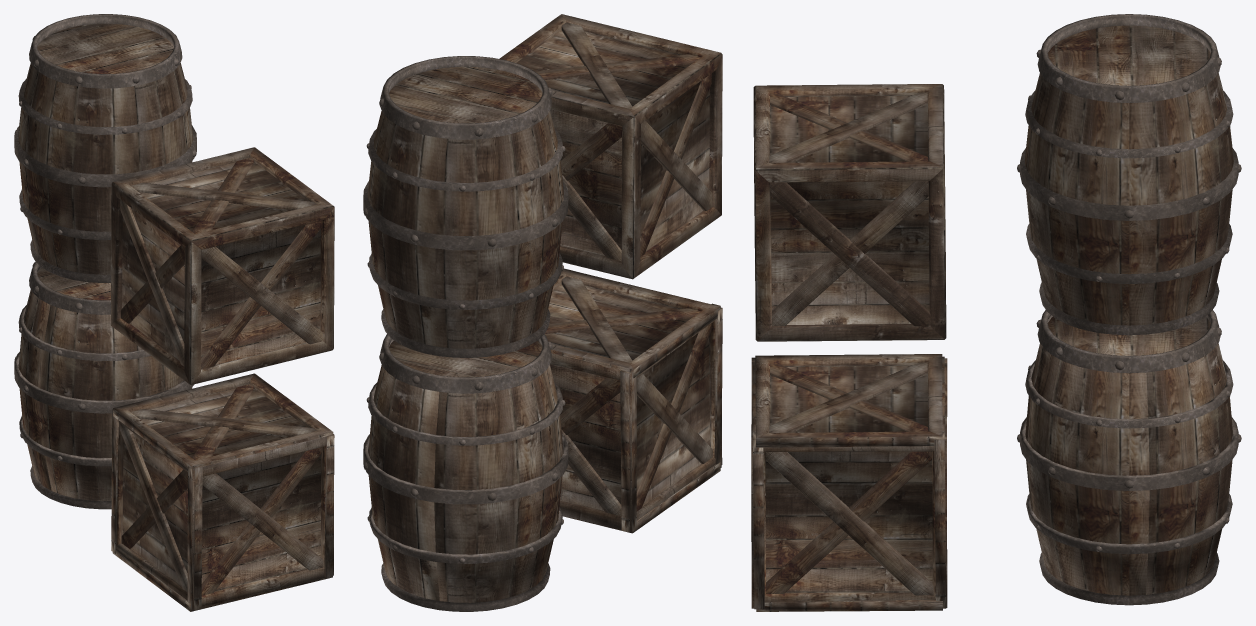
File: newshatter.glb
The picture shows the model from 3 angles, left to right: view 1: azimuth 30°, elevation 25°; view 2: azimuth 150°, elevation 25°; view 3: azimuth 270°, elevation 25°; orthographic projection. The views are drawn at different scales.
Visible parts, largest first — view 1: crate_full, barrel_full, crate_debrie.001, barrel_debrie, crate_debrie, crate_debrie.004, barrel_debrie.010, barrel_debrie.006, barrel_debrie.001, crate_debrie.005, barrel_debrie.004, barrel_debrie.005 (+4 smaller); view 2: barrel_full, crate_full, barrel_debrie.010, crate_debrie.004, crate_debrie, barrel_debrie.009, crate_debrie.002, barrel_debrie.006, barrel_debrie.001, barrel_debrie.004, barrel_debrie.005, barrel_debrie.007 (+4 smaller); view 3: barrel_full, crate_full, crate_debrie.005, barrel_debrie.008, crate_debrie, barrel_debrie.009, barrel_debrie.006, barrel_debrie.001, barrel_debrie.004, barrel_debrie.005, barrel_debrie.007, crate_debrie.001 (+3 smaller).
Boxes of the visible parts, left/top/right/bottom form: crate_full: left=110, top=147, right=334, bottom=384; barrel_full: left=14, top=14, right=196, bottom=282; crate_debrie.001: left=187, top=433, right=334, bottom=610; barrel_debrie: left=40, top=305, right=162, bottom=501; crate_debrie: left=113, top=373, right=333, bottom=471; crate_debrie.004: left=116, top=420, right=202, bottom=610; barrel_debrie.010: left=18, top=289, right=51, bottom=490; barrel_debrie.006: left=14, top=351, right=194, bottom=413; barrel_debrie.001: left=29, top=262, right=110, bottom=314; crate_debrie.005: left=324, top=435, right=334, bottom=578; barrel_debrie.004: left=37, top=267, right=110, bottom=300; barrel_debrie.005: left=18, top=305, right=150, bottom=361; barrel_full: left=363, top=56, right=568, bottom=357; crate_full: left=499, top=14, right=722, bottom=279; barrel_debrie.010: left=434, top=372, right=558, bottom=602; crate_debrie.004: left=620, top=303, right=722, bottom=532; crate_debrie: left=545, top=268, right=720, bottom=378; barrel_debrie.009: left=368, top=365, right=439, bottom=600; crate_debrie.002: left=550, top=352, right=636, bottom=532; barrel_debrie.006: left=363, top=434, right=568, bottom=504; barrel_debrie.001: left=379, top=334, right=552, bottom=393; barrel_debrie.004: left=389, top=340, right=542, bottom=377; barrel_debrie.005: left=366, top=382, right=565, bottom=445; barrel_debrie.007: left=367, top=507, right=563, bottom=563; barrel_full: left=1017, top=14, right=1241, bottom=335; crate_full: left=753, top=84, right=946, bottom=341; crate_debrie.005: left=751, top=435, right=947, bottom=608; barrel_debrie.008: left=1027, top=347, right=1149, bottom=595; crate_debrie: left=755, top=354, right=942, bottom=447; barrel_debrie.009: left=1146, top=343, right=1233, bottom=594; barrel_debrie.006: left=1017, top=417, right=1241, bottom=490; barrel_debrie.001: left=1036, top=310, right=1221, bottom=373; barrel_debrie.004: left=1047, top=316, right=1210, bottom=355; barrel_debrie.005: left=1025, top=360, right=1233, bottom=428; barrel_debrie.007: left=1026, top=494, right=1232, bottom=554; crate_debrie.001: left=752, top=363, right=764, bottom=609.
Bounding box in the file's own units: 0.9058 × 2.31 × 1.98.
10 materials, 10 textured.
